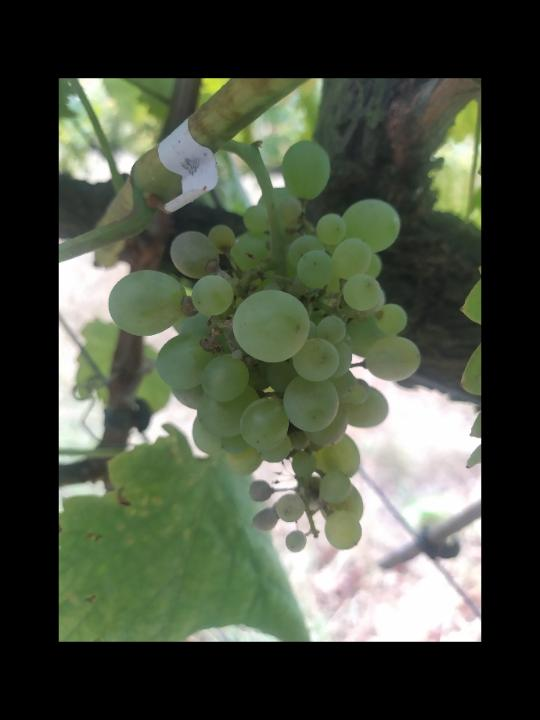grape: (106, 139, 425, 555)
